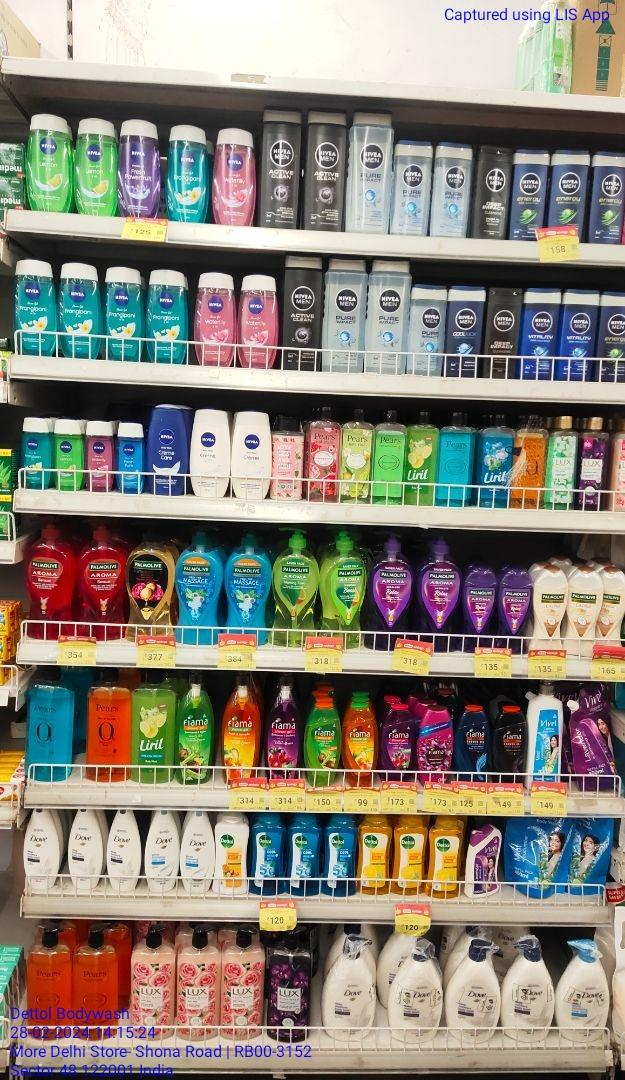Dettol_Bodywash_Cool: (252, 812, 286, 894), (288, 812, 320, 898), (324, 815, 356, 898)
Dettol_Bodywash_Refresh: (429, 815, 464, 898), (357, 815, 391, 898), (394, 817, 425, 897)
Dettol_Nourish_Body_Wash_250ML: (215, 815, 250, 897)
Dove_Deep_Moisture_Body_Wash_250ML: (105, 808, 140, 892), (23, 810, 58, 889), (69, 808, 102, 890)
Dove_Gentle_Exfoliating_Body_Wash_250ML: (145, 809, 180, 892), (182, 813, 212, 894)
Fiama_Shower_Gel_Lemongrass_and_Jojoba_250ML: (305, 704, 337, 788)
Fiama_Shower_Gel_Peach_and_Avocado_250ML: (346, 703, 375, 789)
Liril_Cooling_Mint_Body_Wash_250ML: (478, 410, 510, 510)
Liril_Lime_and_Tea_Tree_Oil_Body_Wash_250ML: (407, 409, 435, 506)
Lux_Black_Orchid_Scent_and_Juniper_Oil_Body_Wash_245ML: (581, 415, 607, 510)
Lux_Body_Wash_Skin_Detox_Freesia_Scent_and_Alove_Vera_245ML: (548, 414, 577, 513)
Nivea_Creme_Care_Body_Wash_250ML: (148, 404, 186, 496)
Nivea_Creme_Soft_Body_Wash_250ML: (191, 408, 229, 498), (235, 408, 271, 499)
Nivea_Shower_Gel_Frangipani_and_Oil_250ML: (13, 257, 56, 355), (167, 122, 208, 224), (146, 264, 186, 364), (59, 260, 99, 358), (104, 262, 141, 362)
Nivea_Shower_Gel_Fresh_Powerfruit_250ML: (118, 116, 159, 221)
Nivea_Shower_Gel_Lemon_and_Oil_250ML: (29, 110, 71, 213), (76, 117, 116, 218)
Nivea_Shower_Gel_Waterlily_and_Oil_250ML: (238, 273, 277, 368), (215, 128, 252, 228), (195, 270, 231, 367)
Palmolive_Aroma_Relax_250ML: (498, 564, 528, 656), (463, 565, 494, 651)
Palmolive_Coconut_Joy_Exfoliating_Body_Wash_250ML: (534, 565, 566, 657), (569, 567, 599, 659), (602, 568, 625, 650)
Pears_Naturale_Aloe_Vera_Body_Wash_250ML: (340, 408, 370, 505)
Pears_Pure_Glycerin_and_Lemon_Flower_Extracts_Body_Wash_250ML: (376, 410, 404, 506)
Pears_Pure_Glycerin_and_Mint_Extracts_Body_Wash_250ML: (439, 410, 471, 507)
